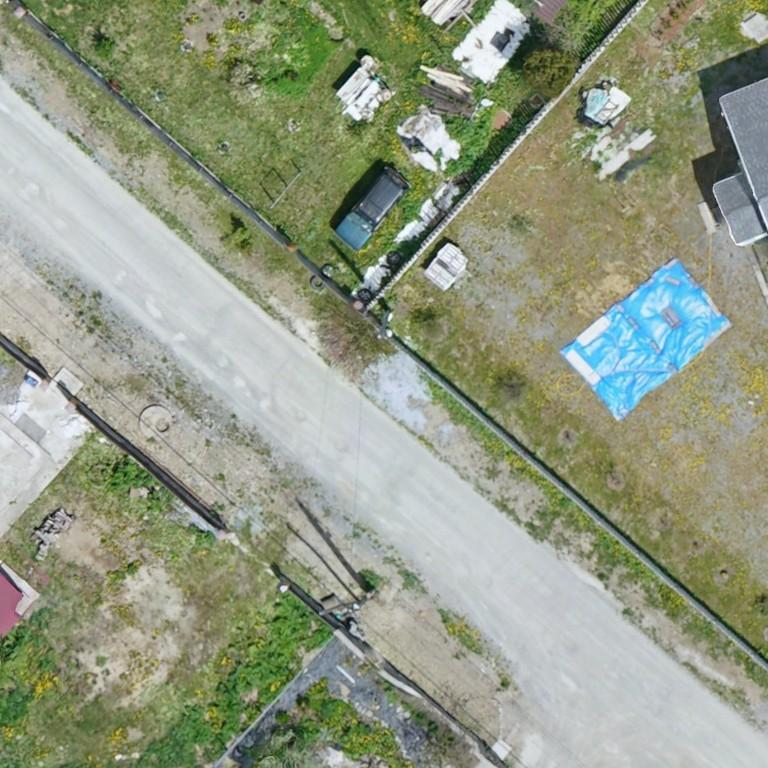hogweed: (218, 594, 329, 735), (144, 706, 207, 767), (447, 117, 493, 175), (112, 461, 151, 485), (0, 694, 26, 724)
